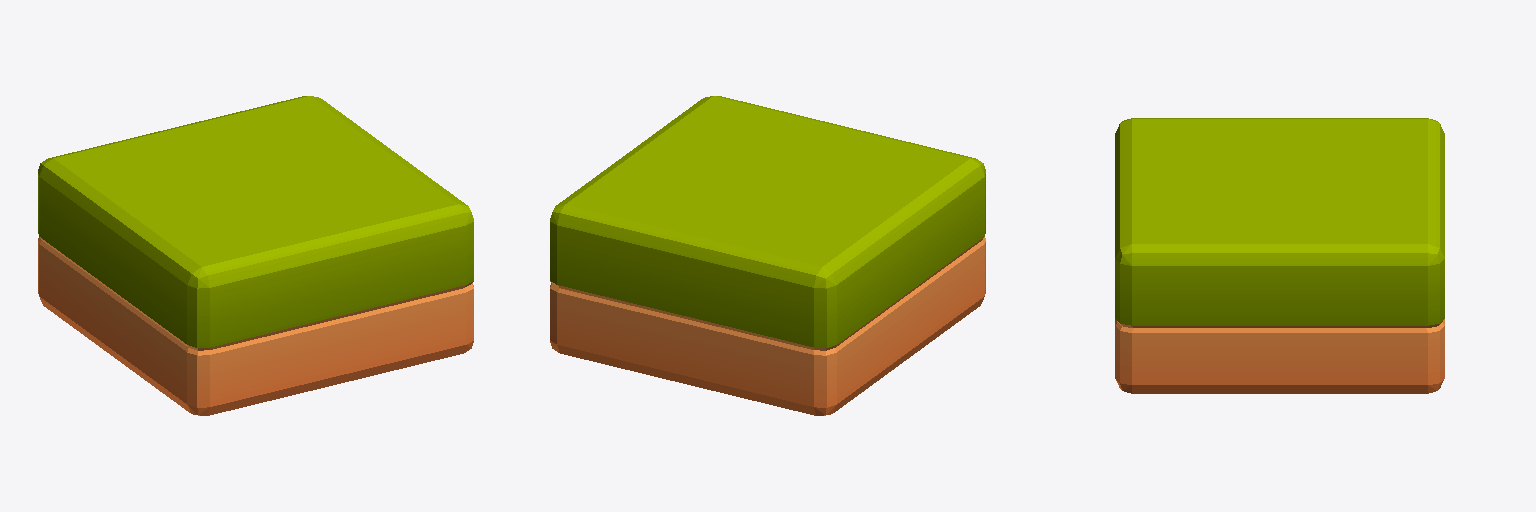
3 views of the same model, side by side, from view 1: azimuth 30°, elevation 25°; view 2: azimuth 150°, elevation 25°; view 3: azimuth 270°, elevation 25° (orthographic).
Parts seen in each view (by area): view 1: 3D_Tile_Ground_01A.001; view 2: 3D_Tile_Ground_01A.001; view 3: 3D_Tile_Ground_01A.001.
Part boxes in pixels (x1,y1,x2,y2): 3D_Tile_Ground_01A.001: (38,96,473,415); 3D_Tile_Ground_01A.001: (550,96,985,415); 3D_Tile_Ground_01A.001: (1115,118,1444,393).
Bounding box in the file's own units: 2 × 1 × 2.
1 materials, 1 textured.